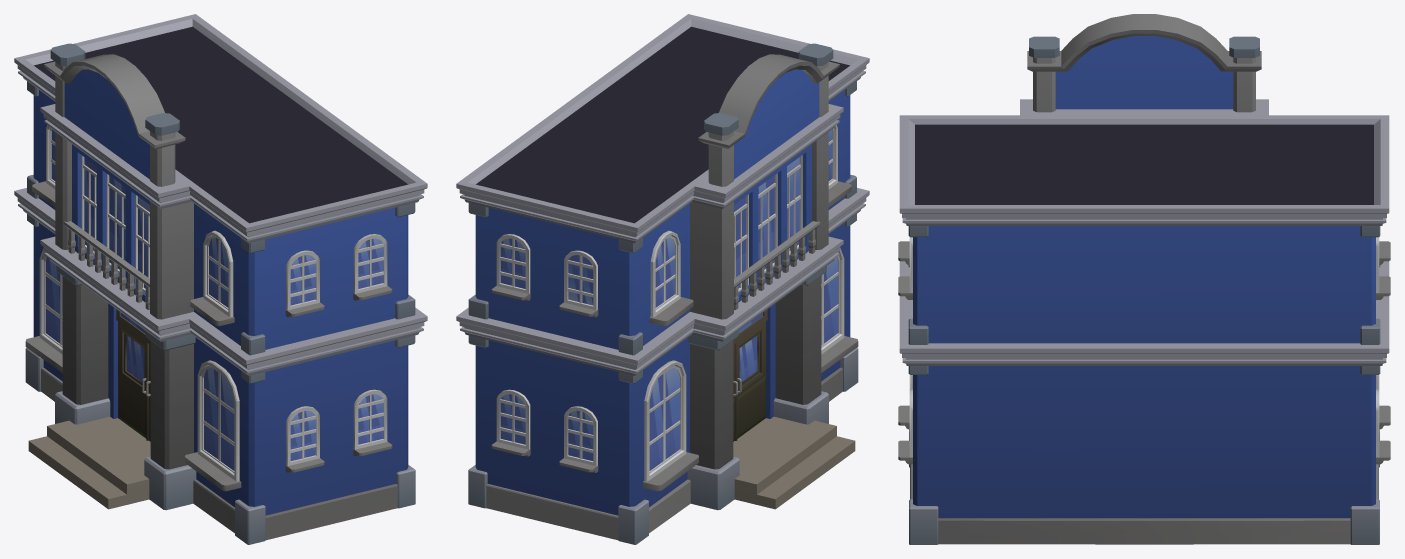
File: Building_24_H.glb
3 renders of one model, left to right at view 1: azimuth 30°, elevation 25°; view 2: azimuth 150°, elevation 25°; view 3: azimuth 270°, elevation 25°, orthographic. The views are drawn at different scales.
Visible parts, largest first — view 1: Building_24_H; view 2: Building_24_H; view 3: Building_24_H.
Part boxes in pixels (box(x1,y1,x2,y2)): Building_24_H: box(14, 14, 427, 544); Building_24_H: box(456, 14, 869, 544); Building_24_H: box(898, 14, 1390, 544).
Size of the model in its own units: 5.35 by 8.47 by 8.88.
Materials: 3 (3 with a texture image).
